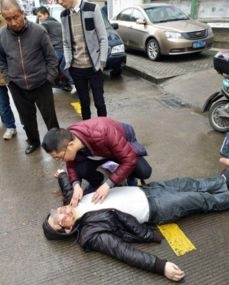falling: (31, 161, 226, 280)
